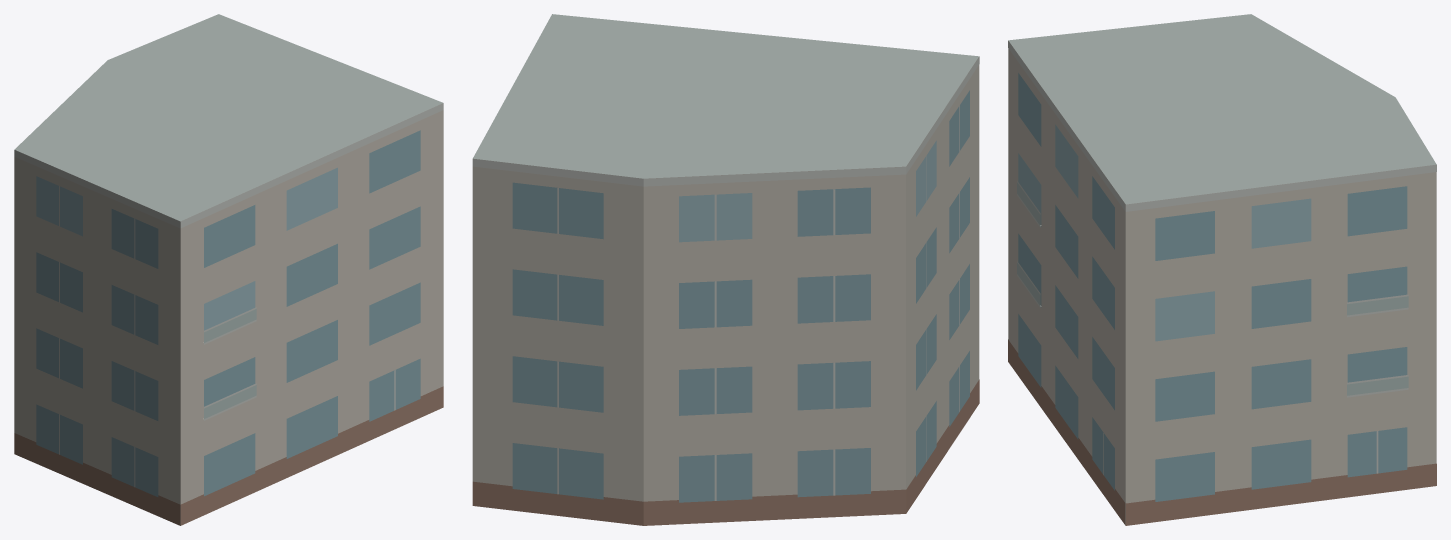
File: survey-upis-33017665.glb
The picture shows the model from 3 angles, left to right: view 1: azimuth 30°, elevation 25°; view 2: azimuth 150°, elevation 25°; view 3: azimuth 270°, elevation 25°; orthographic projection. The views are drawn at different scales.
Parts seen in each view (by area): view 1: survey-upis-33017665.tmp; view 2: survey-upis-33017665.tmp; view 3: survey-upis-33017665.tmp.
Boxes of the visible parts, <box> form: survey-upis-33017665.tmp: <box>14,14,443,525</box>; survey-upis-33017665.tmp: <box>472,14,979,525</box>; survey-upis-33017665.tmp: <box>1008,14,1436,525</box>.
Bounding box in the file's own units: 13.49 × 10.6 × 12.83.
